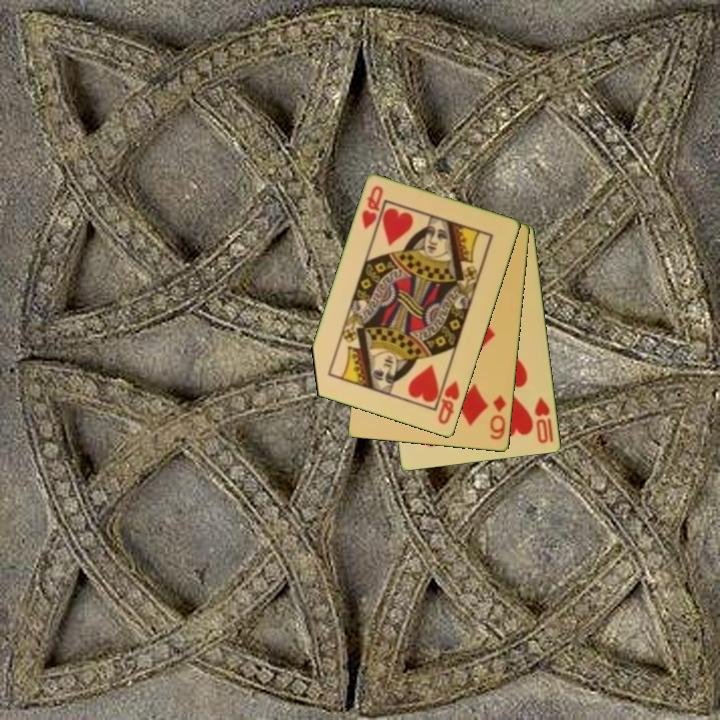10h: (531, 394, 557, 446)
6d: (486, 392, 510, 443)
Qh: (434, 378, 463, 428), (358, 182, 386, 233)
